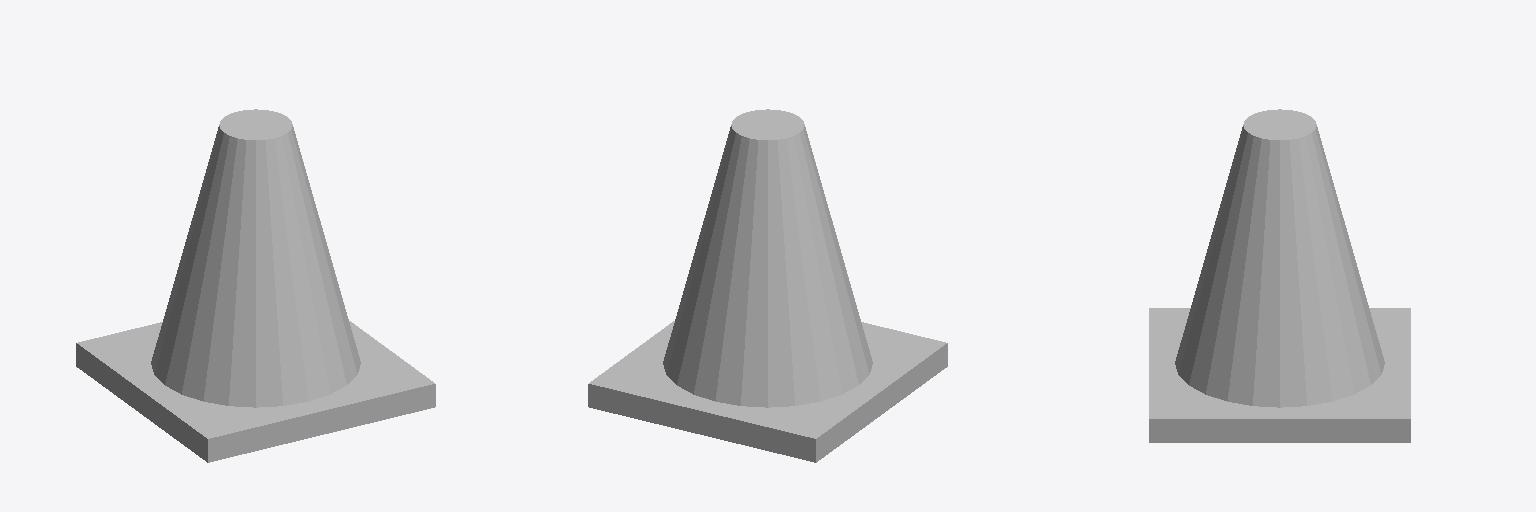
The model's file is pylon.obj.
The picture shows the model from 3 angles: view 1: azimuth 30°, elevation 25°; view 2: azimuth 150°, elevation 25°; view 3: azimuth 270°, elevation 25°; orthographic projection.
Parts seen in each view (by area): view 1: pylon; view 2: pylon; view 3: pylon.
Boxes of the visible parts, <box> form: pylon: <box>76,109,435,462</box>; pylon: <box>588,109,947,462</box>; pylon: <box>1149,109,1410,442</box>.
Bounding box in the file's own units: 0.12 × 0.132 × 0.12.